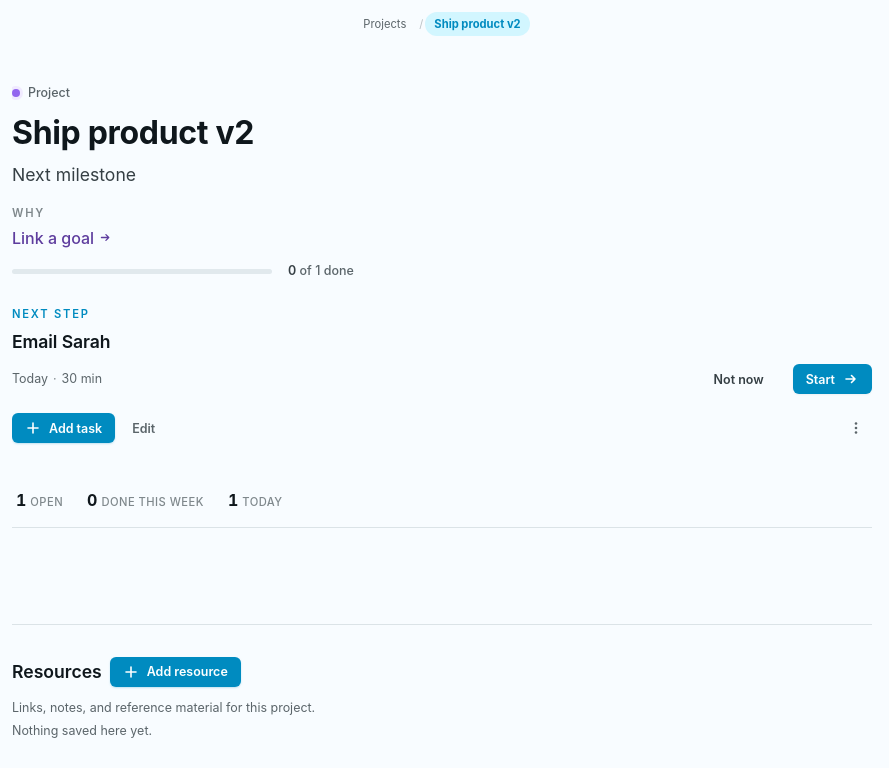
ProjectDetailPage — re-link to goal (spec §C) › the goal picker lists active goals in the project's Lens
Note: The "Link a goal" affordance — click to open the picker.
Click the button "Link a goal". click: (53, 238)
box: [12,226,872,250]
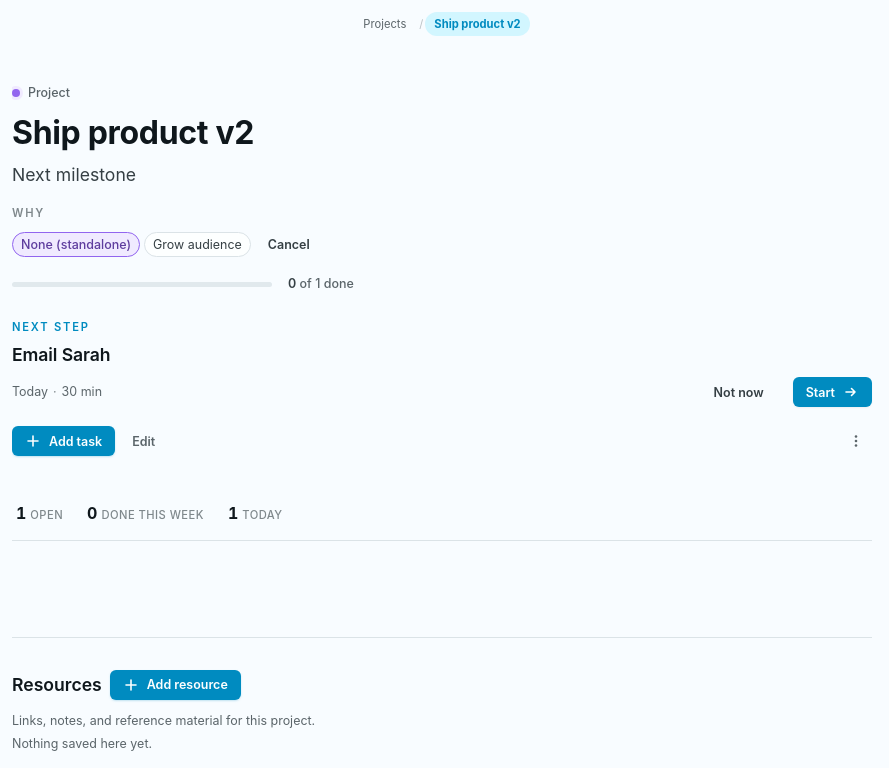
Expected: the button "Grow audience" is shown, [144,232,251,257]
